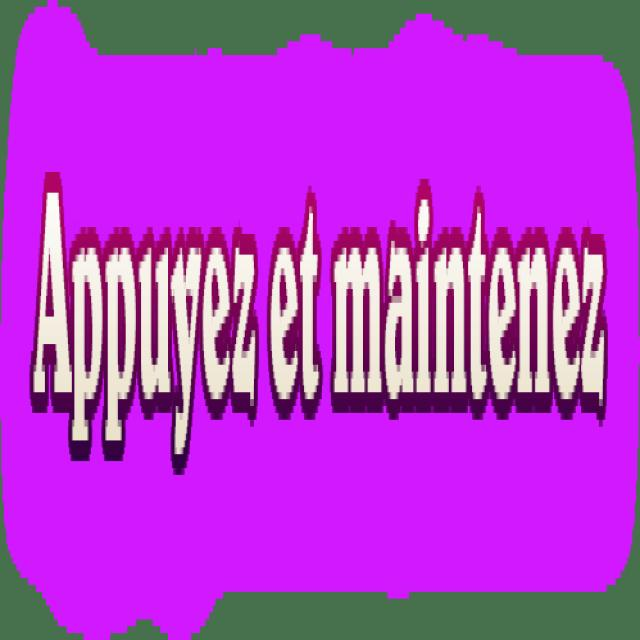words: (18, 172, 631, 447), (30, 172, 259, 454), (328, 186, 607, 406)
